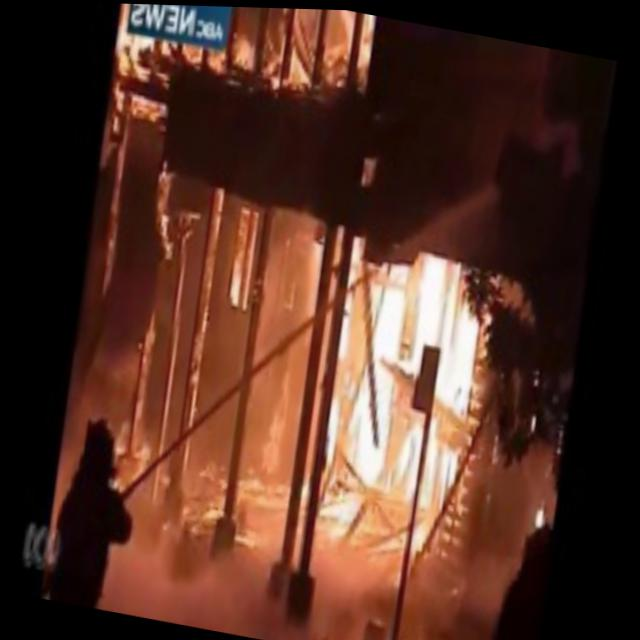fire: (434, 314, 479, 396), (372, 286, 408, 366), (414, 258, 449, 338)
smoke: (226, 207, 334, 514), (189, 307, 256, 496), (123, 564, 274, 631), (301, 537, 379, 609), (221, 543, 266, 581), (133, 510, 164, 565)
